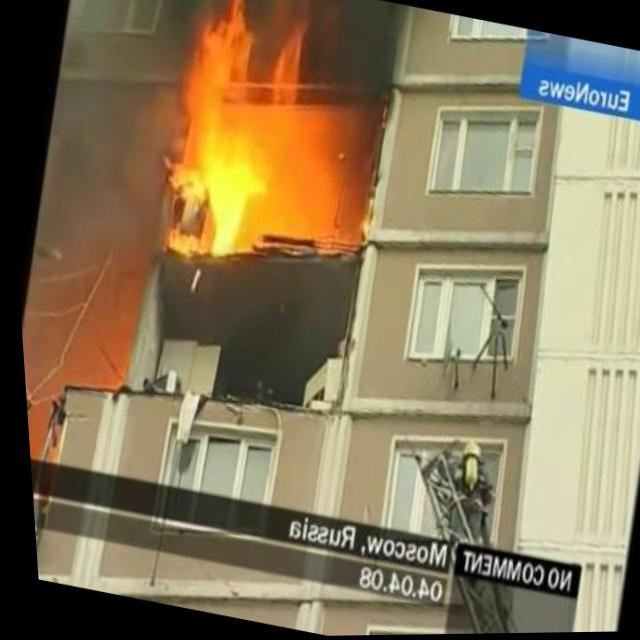fire: (135, 0, 333, 274)
